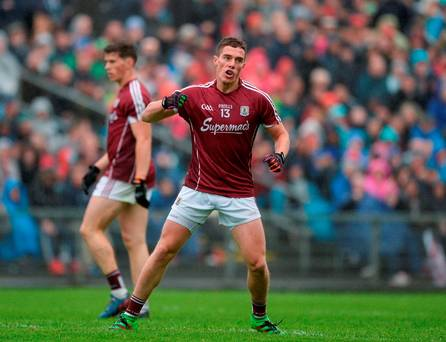player: (162, 23, 291, 319), (80, 34, 166, 299)
